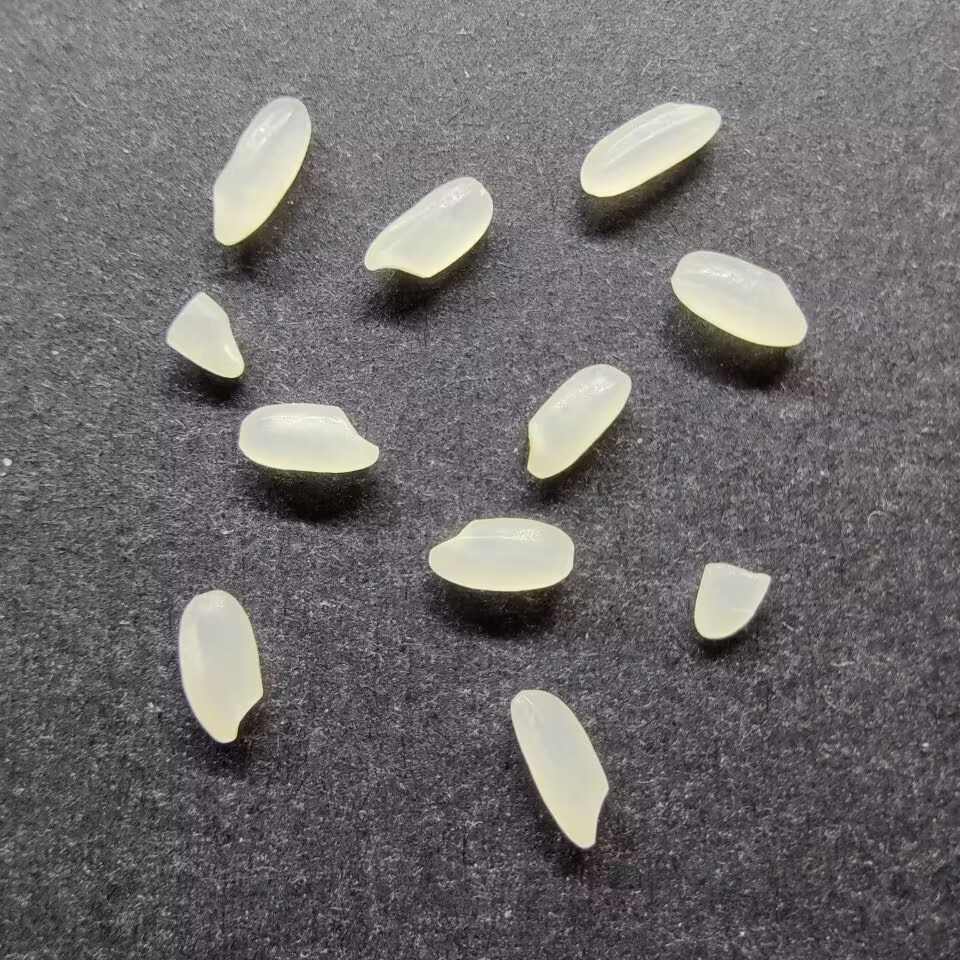broken: (163, 289, 247, 380), (690, 560, 773, 643)
rice: (509, 686, 612, 852), (210, 96, 311, 246), (359, 174, 496, 280), (578, 100, 722, 198), (668, 249, 809, 348), (177, 589, 263, 744), (522, 363, 633, 481), (426, 515, 575, 594), (236, 400, 380, 474)
